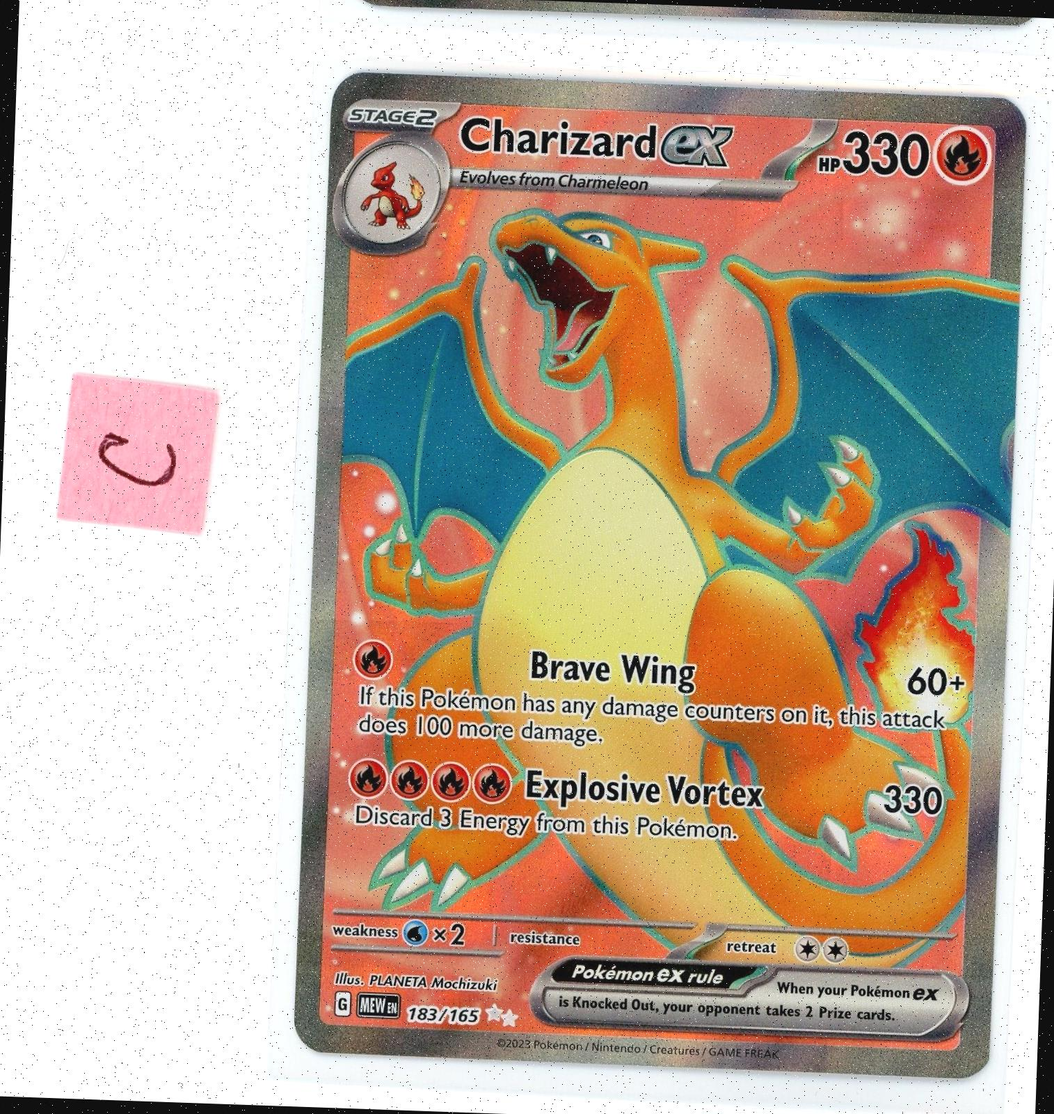card-2UtV: (293, 72, 1027, 1078)
